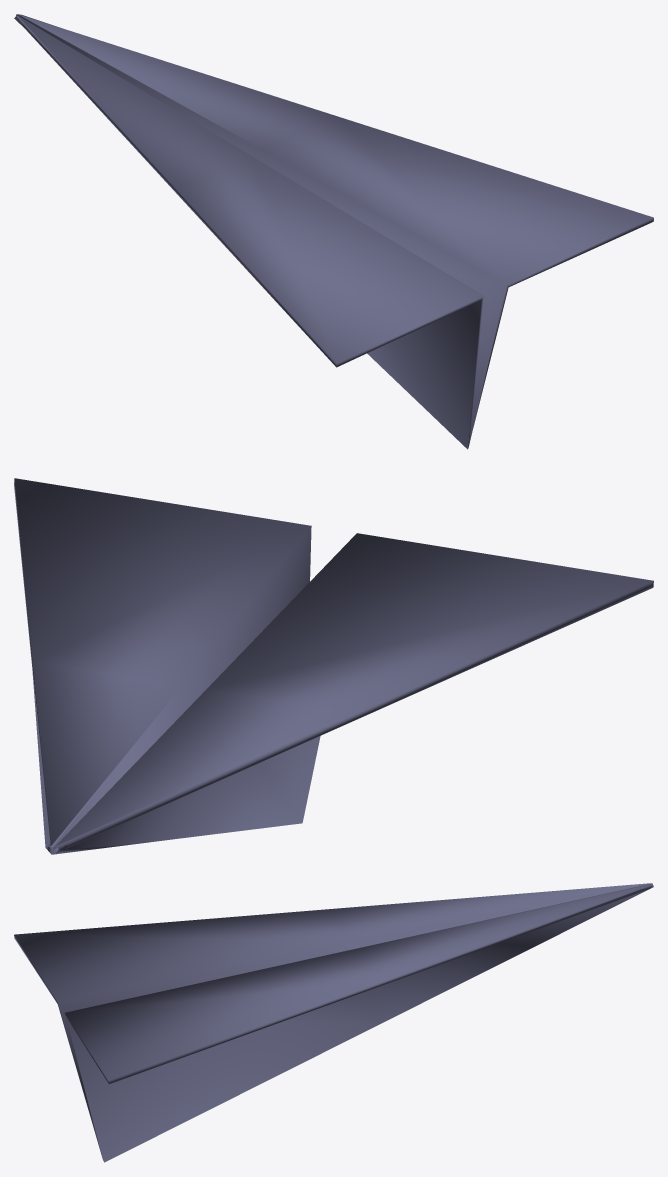
3 views of the same model, one above another, from view 1: azimuth 30°, elevation 25°; view 2: azimuth 150°, elevation 25°; view 3: azimuth 270°, elevation 25° (orthographic). The views are drawn at different scales.
Visible parts, largest first — view 1: Plane; view 2: Plane; view 3: Plane.
Boxes of the visible parts, x1,y1,x2,y2 form: Plane: (14, 14, 653, 449); Plane: (14, 478, 653, 854); Plane: (14, 883, 653, 1162).
Size of the model in its own units: 1.94 by 1.22 by 3.27.
